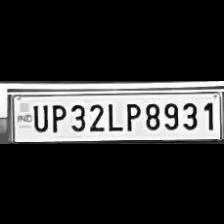1: (200, 97, 216, 128)
2: (86, 98, 106, 132)
3: (66, 100, 86, 132), (180, 98, 198, 130)
8: (142, 99, 162, 131)
9: (160, 98, 178, 130)
L: (105, 99, 121, 131)
P: (47, 100, 66, 132), (122, 99, 140, 131)
U: (29, 100, 49, 132)
